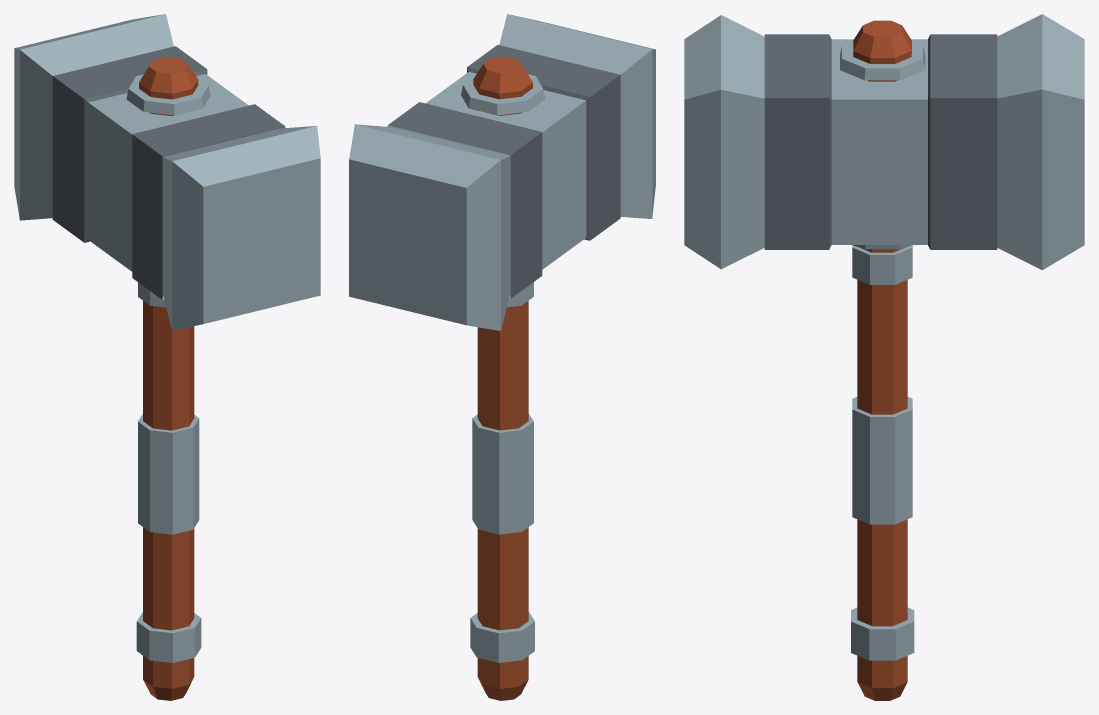
The model's file is hammer (1).fbx.
3 views of the same model, side by side, from view 1: azimuth 30°, elevation 25°; view 2: azimuth 150°, elevation 25°; view 3: azimuth 270°, elevation 25° (orthographic). The views are drawn at different scales.
Parts seen in each view (by area): view 1: hammer; view 2: hammer; view 3: hammer.
Boxes of the visible parts, x1=… form: hammer: x1=14, y1=14, x2=320, y2=700; hammer: x1=349, y1=14, x2=655, y2=700; hammer: x1=684, y1=14, x2=1084, y2=700.
Bounding box in the file's own units: 28.2 × 116 × 63.27.
Materials: 1 (1 with a texture image).
